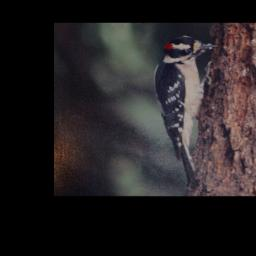Woodpecker: (151, 33, 218, 187)
